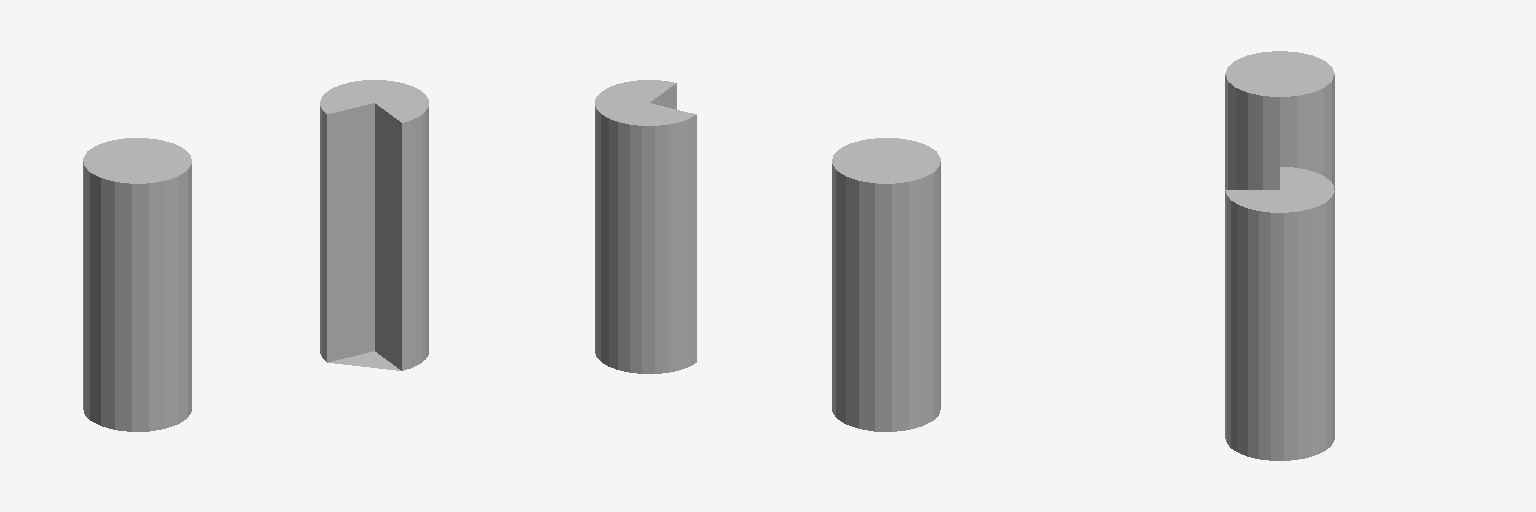
Rendered from CreateFanCylinder.obj.
3 views of the same model, side by side, from view 1: azimuth 30°, elevation 25°; view 2: azimuth 150°, elevation 25°; view 3: azimuth 270°, elevation 25° (orthographic).
Parts seen in each view (by area): view 1: obj_[number redacted], obj_[number redacted]; view 2: obj_[number redacted], obj_[number redacted]; view 3: obj_[number redacted], obj_[number redacted].
Part boxes in pixels (x1,y1,x2,y2): obj_[number redacted]: (83,138,191,431); obj_[number redacted]: (320,80,428,370); obj_[number redacted]: (832,138,940,431); obj_[number redacted]: (595,80,696,373); obj_[number redacted]: (1225,167,1334,460); obj_[number redacted]: (1225,51,1334,190).
Bounding box in the file's own units: 13.99 × 10 × 4.